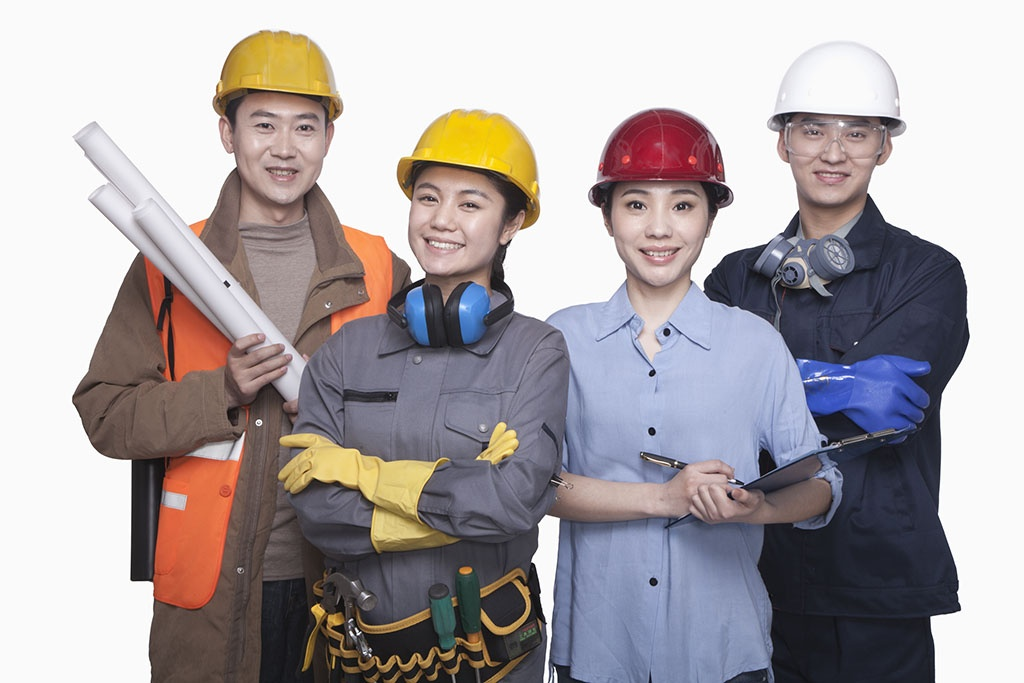red: (589, 104, 729, 289)
white: (766, 39, 907, 216)
yellow: (394, 106, 546, 286), (209, 26, 348, 211)
